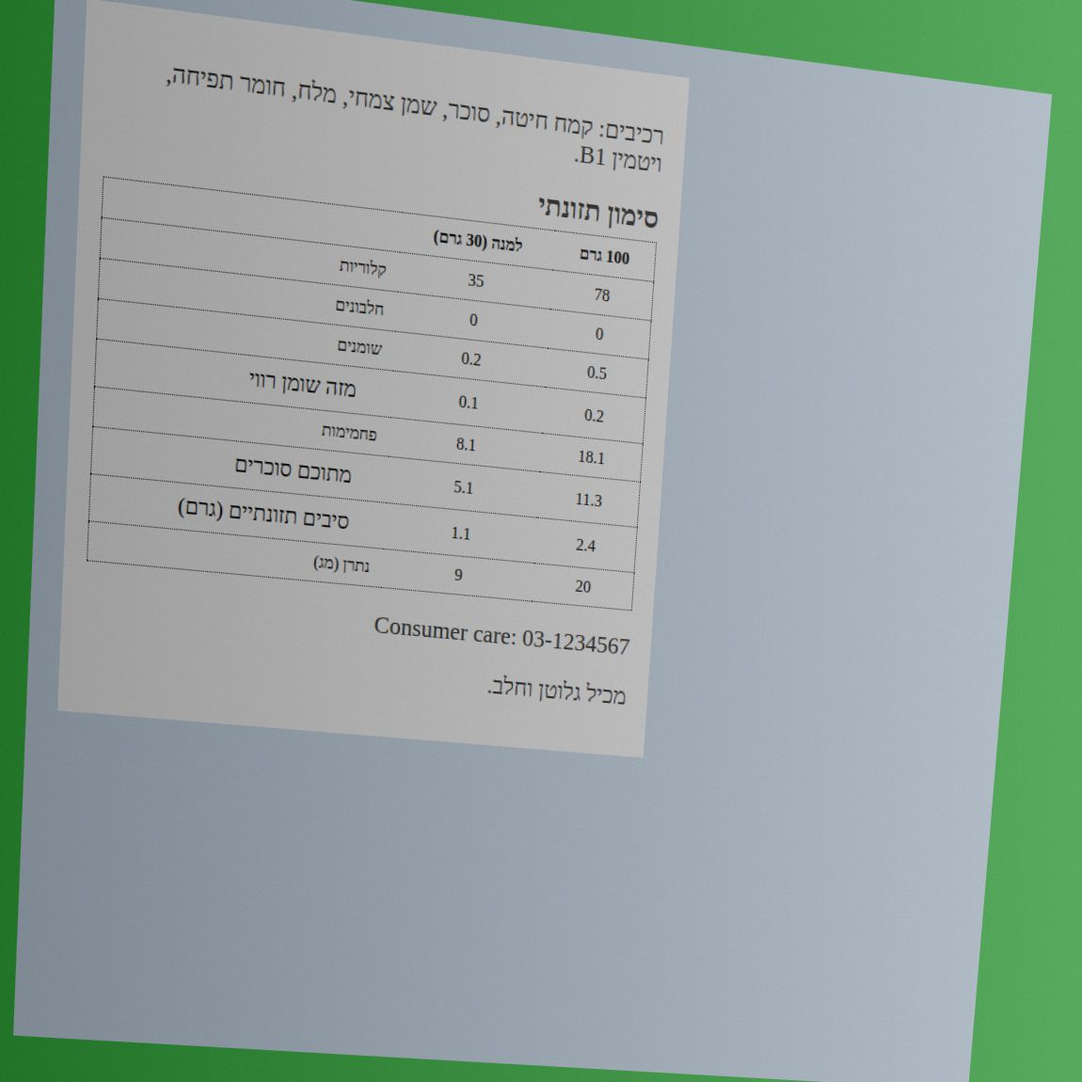carbs: (575, 445, 608, 470)
energy: (591, 283, 613, 307)
fat: (584, 360, 610, 385)
protein: (593, 322, 606, 346)
